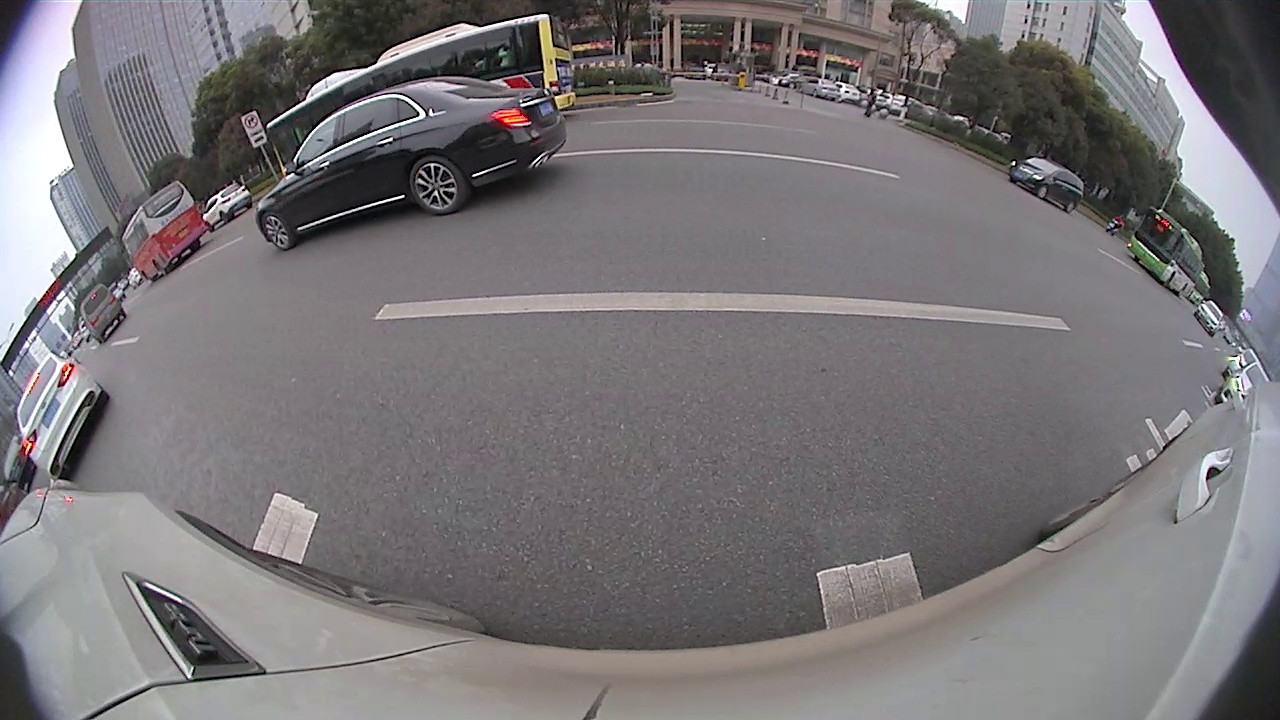bus: (264, 11, 577, 181), (120, 178, 211, 286), (1127, 205, 1206, 301)
car: (255, 75, 569, 252), (14, 349, 110, 484), (1007, 149, 1087, 214), (78, 281, 128, 346), (1212, 358, 1273, 409), (201, 179, 254, 229), (2, 433, 38, 494), (1193, 298, 1226, 338), (1221, 347, 1259, 380)
front: (256, 211, 299, 253)
person: (864, 87, 879, 117)
rear: (406, 156, 470, 216), (93, 388, 113, 413), (54, 464, 77, 483)
rider: (1105, 213, 1126, 236)
